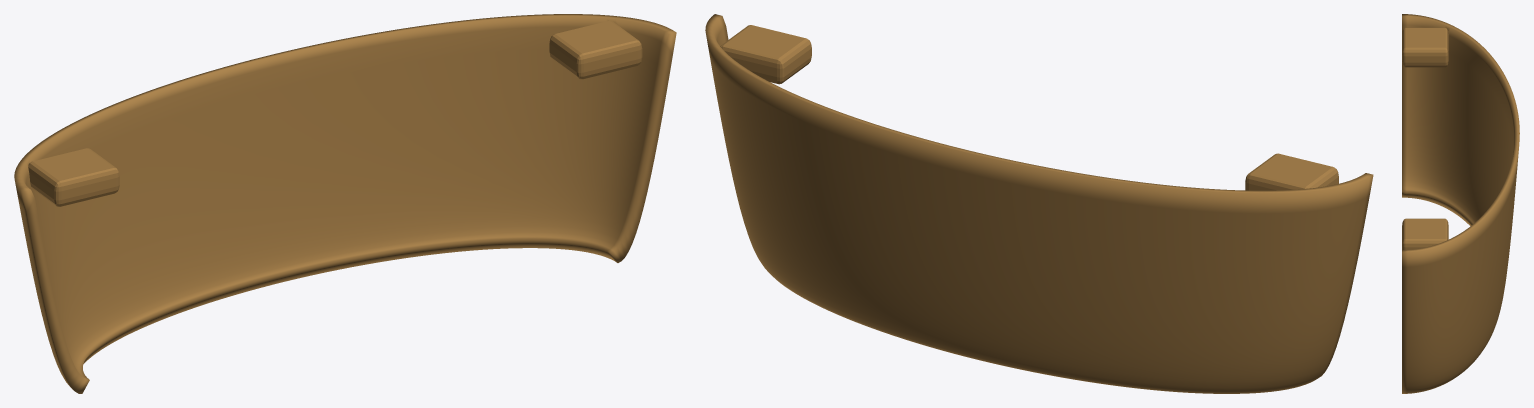
File: HANDLE_CUP_96_BRASS.glb
3 views of the same model, side by side, from view 1: azimuth 30°, elevation 25°; view 2: azimuth 150°, elevation 25°; view 3: azimuth 270°, elevation 25° (orthographic). The views are drawn at different scales.
Visible parts, largest first — view 1: Cup_Shell; view 2: Cup_Shell; view 3: Cup_Shell.
Part boxes in pixels (bbox=[...]): Cup_Shell: bbox=[14, 14, 676, 393]; Cup_Shell: bbox=[705, 14, 1373, 393]; Cup_Shell: bbox=[1402, 14, 1519, 393].
Bounding box in the file's own units: 0.12 × 0.038 × 0.025.
